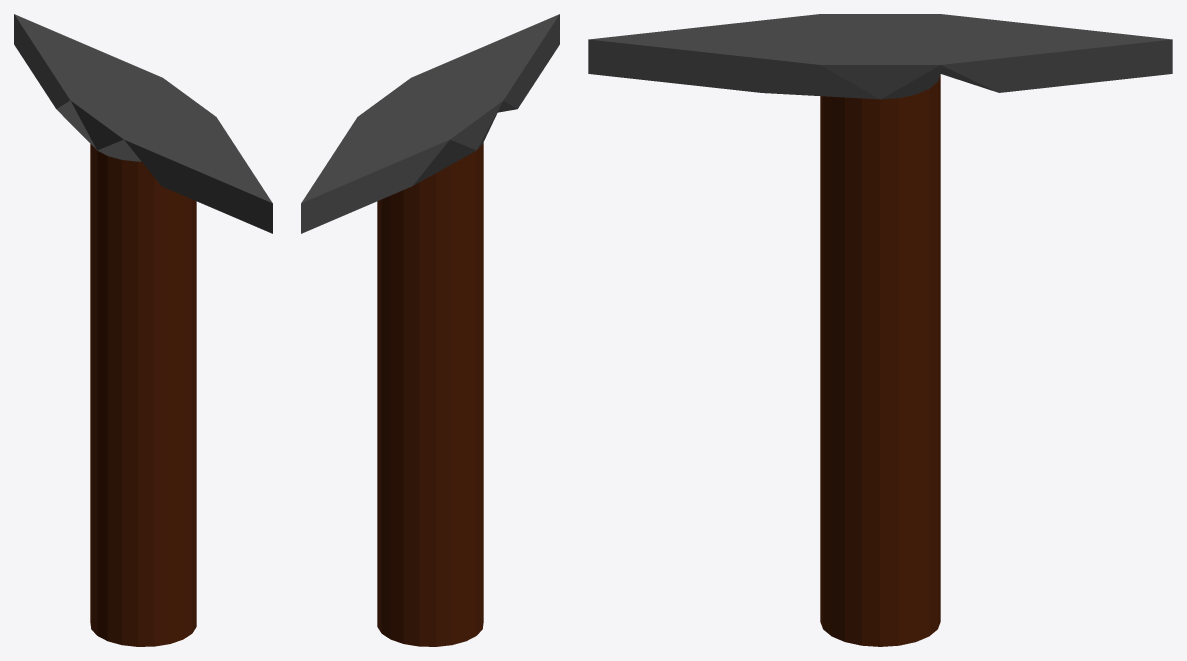
Rendered from Handle2.glb.
The picture shows the model from 3 angles, left to right: view 1: azimuth 30°, elevation 25°; view 2: azimuth 150°, elevation 25°; view 3: azimuth 270°, elevation 25°; orthographic projection. The views are drawn at different scales.
Visible parts, largest first — view 1: Handle2; view 2: Handle2; view 3: Handle2.
Part boxes in pixels (bbox=[...]): Handle2: bbox=[14, 14, 272, 646]; Handle2: bbox=[301, 14, 559, 646]; Handle2: bbox=[588, 14, 1172, 646].
Size of the model in its own units: 0.1878 by 1 by 0.9094.
